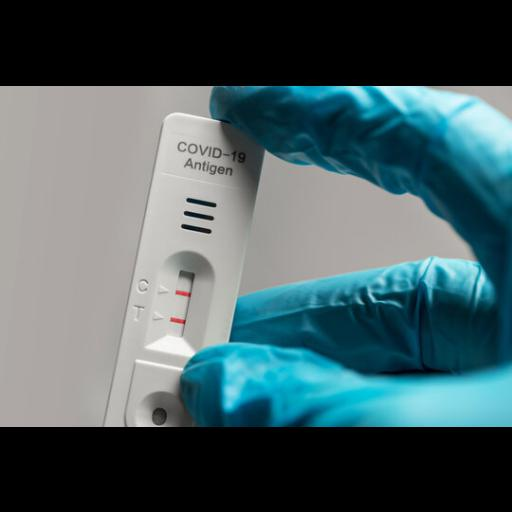Pos: (109, 109, 271, 424)
